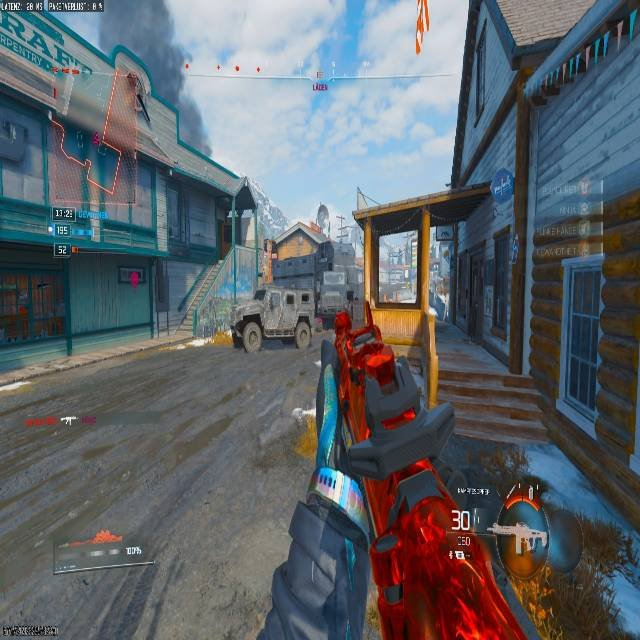player: (293, 314, 311, 348), (230, 320, 246, 352)
